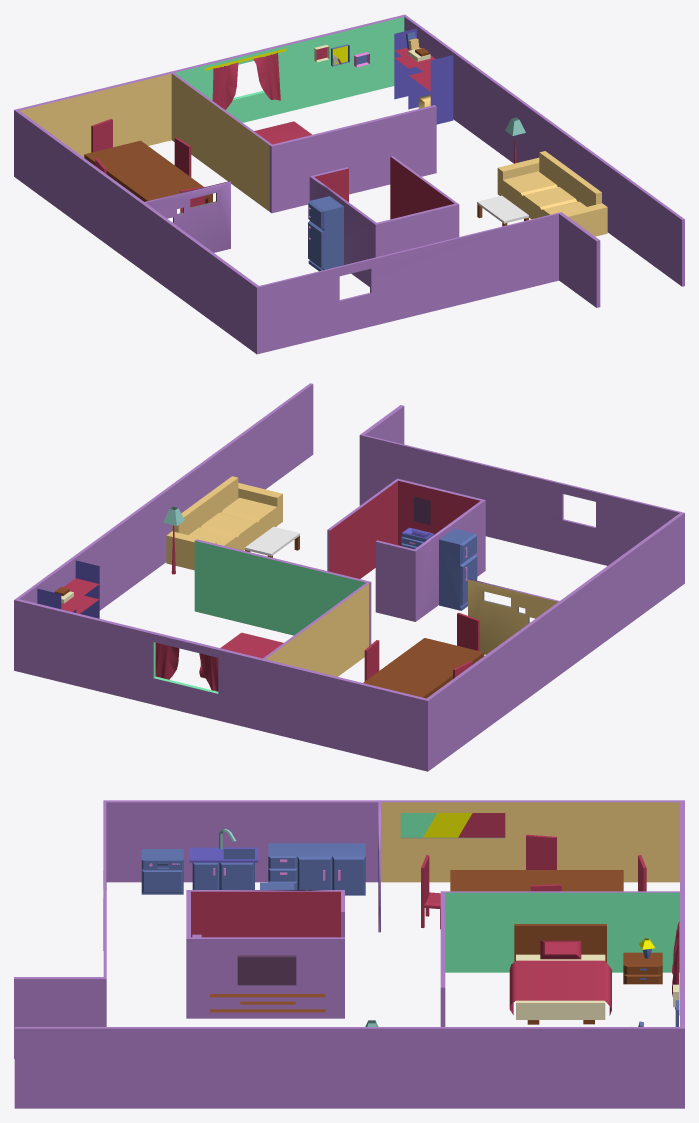
The model's file is house7.obj.
The picture shows the model from 3 angles, top to bottom: view 1: azimuth 30°, elevation 25°; view 2: azimuth 150°, elevation 25°; view 3: azimuth 270°, elevation 25°; orthographic projection. The views are drawn at different scales.
Visible parts, largest first — view 1: house2; view 2: house2; view 3: house2.
Part boxes in pixels (<box>): house2: <box>14,14,684,354</box>; house2: <box>14,383,684,771</box>; house2: <box>14,800,684,1108</box>.
Bounding box in the file's own units: 153 × 25.01 × 189.
